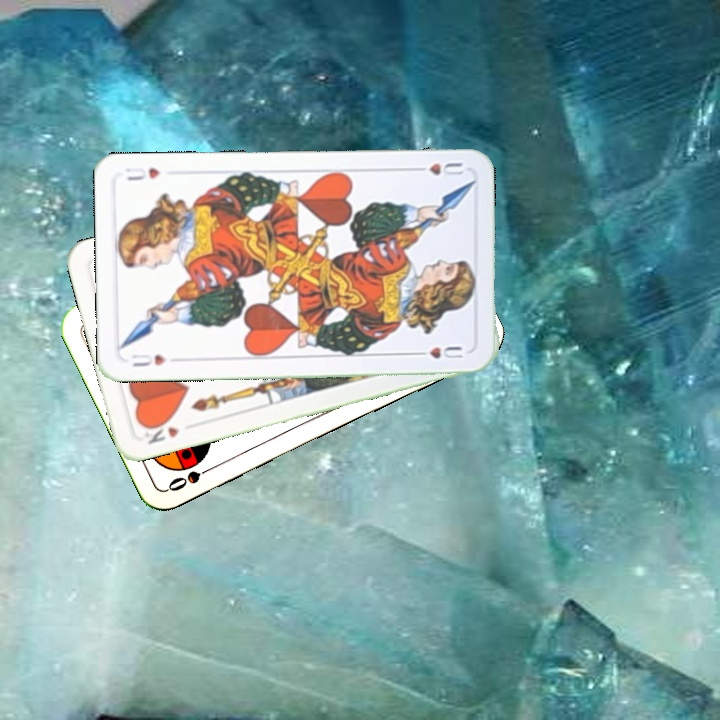HK: (139, 416, 182, 447)
HU: (409, 159, 466, 180), (128, 350, 169, 370)
SO: (163, 459, 219, 494)
